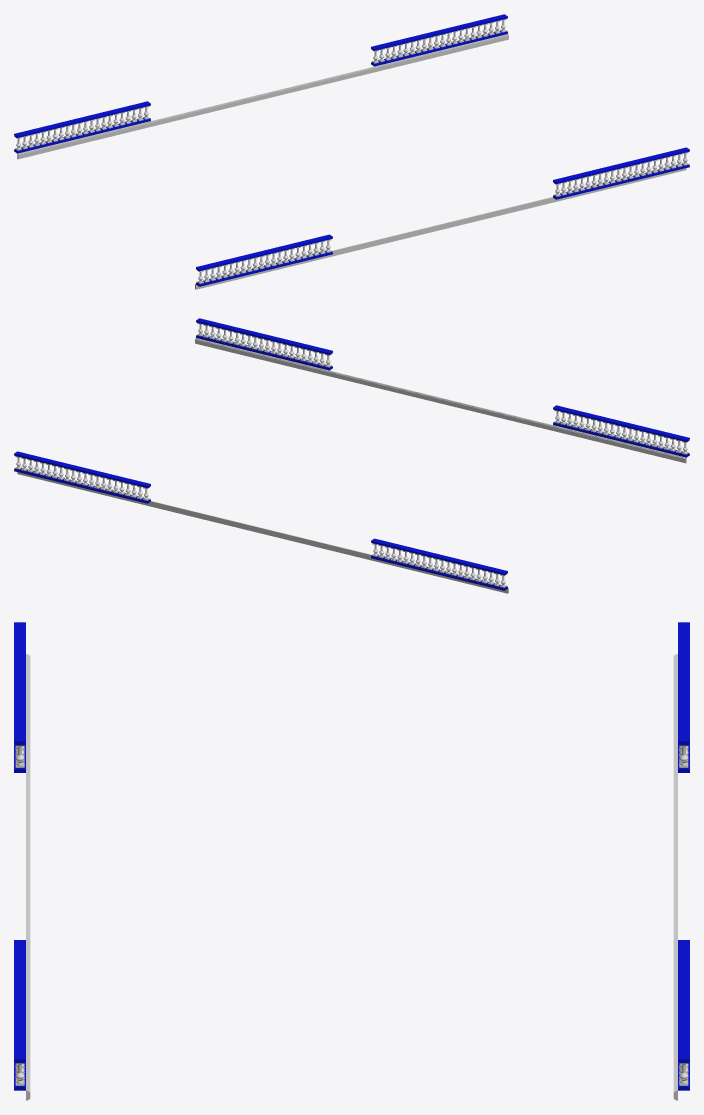
File: Catacomb Handrails.fbx
The picture shows the model from 3 angles, top to bottom: view 1: azimuth 30°, elevation 25°; view 2: azimuth 150°, elevation 25°; view 3: azimuth 270°, elevation 25°; orthographic projection. The views are drawn at different scales.
Parts seen in each view (by area): view 1: Küpeşte Koruma.002, Küpeşte Koruma.001; view 2: Küpeşte Koruma.002, Küpeşte Koruma.001; view 3: Küpeşte Koruma.002, Küpeşte Koruma.001.
Boxes of the visible parts, x1,y1,x2,y2 form: Küpeşte Koruma.002: [14, 14, 689, 289]; Küpeşte Koruma.001: [151, 66, 552, 256]; Küpeşte Koruma.002: [14, 318, 689, 593]; Küpeşte Koruma.001: [151, 370, 552, 560]; Küpeşte Koruma.002: [14, 622, 689, 1100]; Küpeşte Koruma.001: [26, 773, 677, 972].
Bounding box in the file's own units: 10853 × 480 × 7099.
